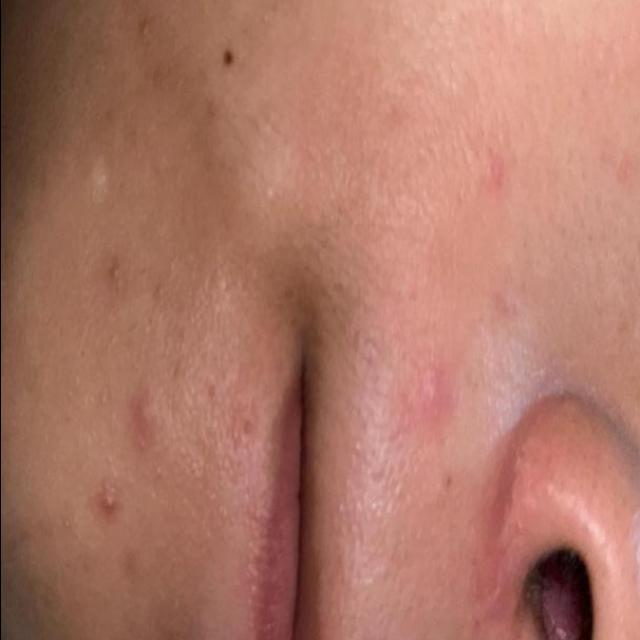papule: (402, 326, 458, 444), (110, 376, 181, 464)
pustule: (91, 466, 130, 535)
